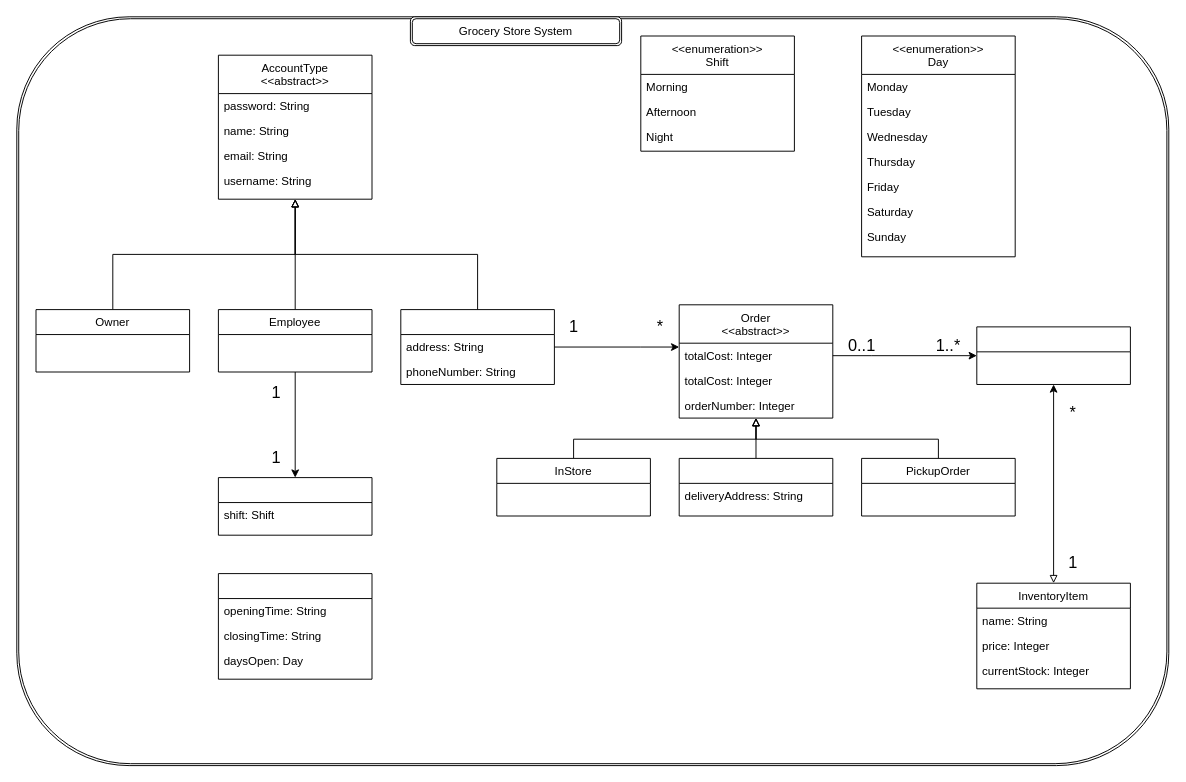
Some shapes in this 1186 by 782 pixel diagram are drawn without their labels. Here are the shapes that lost their labels. From the top down, the box of each, then its label:
(400, 309, 554, 384): Customer
(976, 326, 1130, 384): Item
(217, 477, 372, 535): EmployeeSchedule
(678, 457, 833, 516): DeliveryOrder
(217, 573, 372, 679): StoreSchedule
